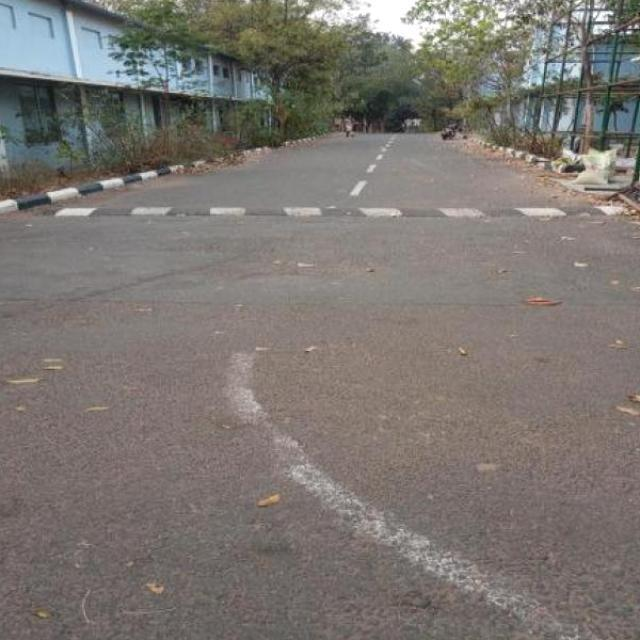Marked Bump: (70, 197, 630, 228)
